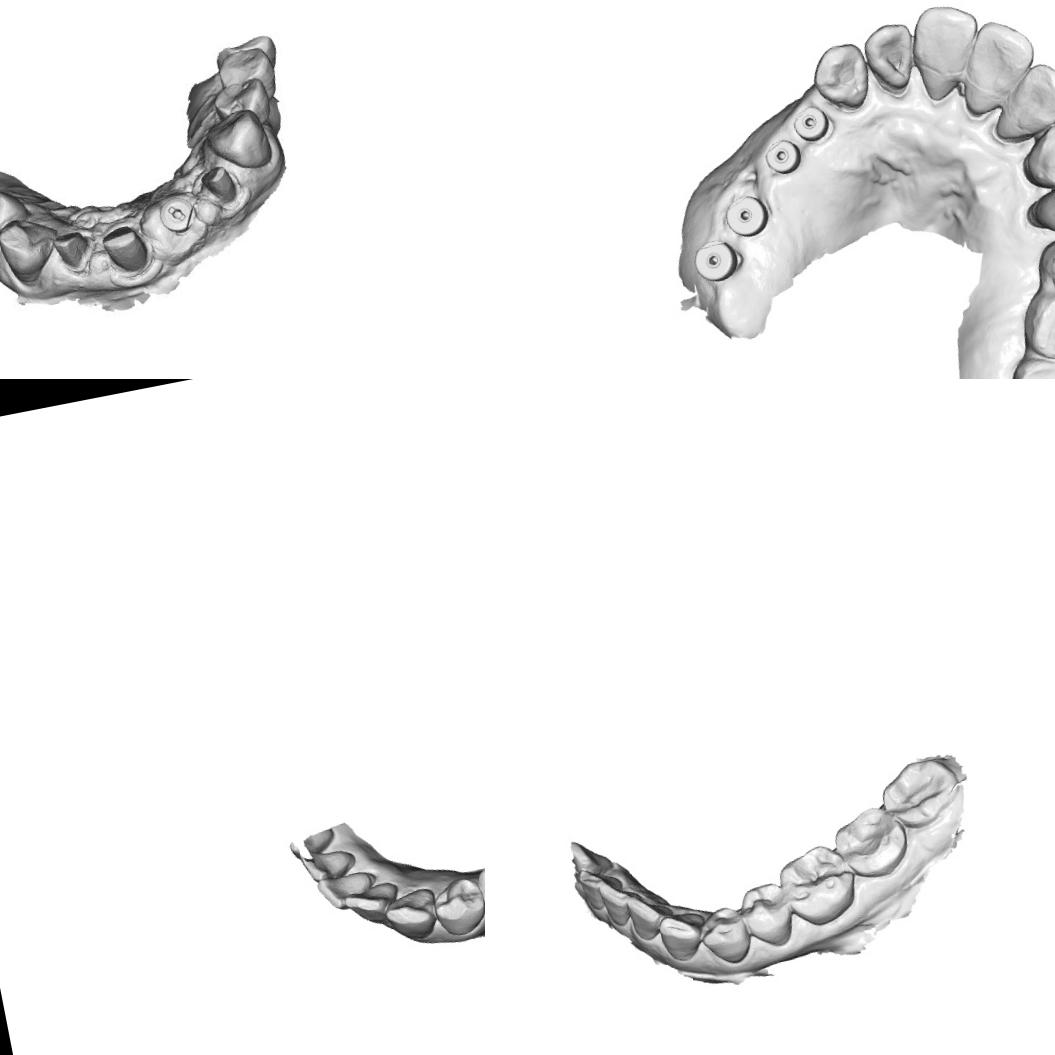canine: (806, 38, 874, 115), (208, 108, 274, 179), (694, 902, 756, 969), (1, 218, 60, 280), (381, 886, 441, 944), (1013, 114, 1055, 194)
crown: (100, 218, 152, 274), (198, 158, 244, 208), (50, 228, 91, 268)
implant: (688, 233, 746, 286), (718, 190, 773, 242), (788, 102, 834, 146), (761, 136, 804, 178)
implant_minus: (154, 192, 204, 238)
incisor: (905, 0, 988, 95), (960, 12, 1040, 98), (858, 18, 922, 101), (1002, 56, 1055, 134), (654, 906, 712, 966), (622, 885, 676, 944), (341, 879, 403, 928), (569, 861, 626, 913), (314, 868, 375, 913), (594, 874, 643, 929), (297, 843, 357, 885), (285, 826, 338, 864)
molar: (826, 800, 916, 886), (874, 752, 966, 836), (1015, 282, 1055, 366), (1006, 349, 1055, 379)
premolar: (771, 836, 865, 932), (735, 876, 800, 952), (428, 873, 485, 939), (1019, 174, 1055, 246), (212, 76, 270, 119), (217, 45, 272, 89), (1031, 227, 1055, 295), (0, 190, 25, 249)
